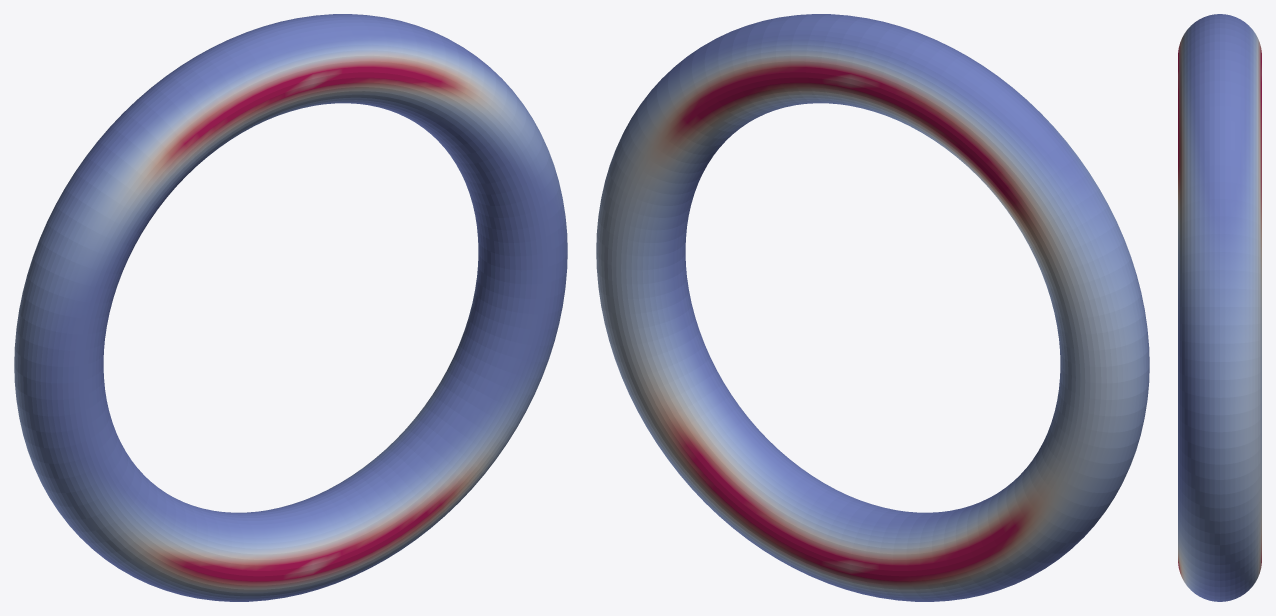
The picture shows the model from 3 angles, left to right: view 1: azimuth 30°, elevation 25°; view 2: azimuth 150°, elevation 25°; view 3: azimuth 270°, elevation 25°; orthographic projection. The views are drawn at different scales.
Visible parts, largest first — view 1: world; view 2: world; view 3: world.
Part boxes in pixels (box(x1,y1,x2,y2)): world: box(14, 14, 567, 601); world: box(596, 14, 1149, 601); world: box(1178, 14, 1261, 601).
Bounding box in the file's own units: 23.33 × 23.33 × 3.33.
